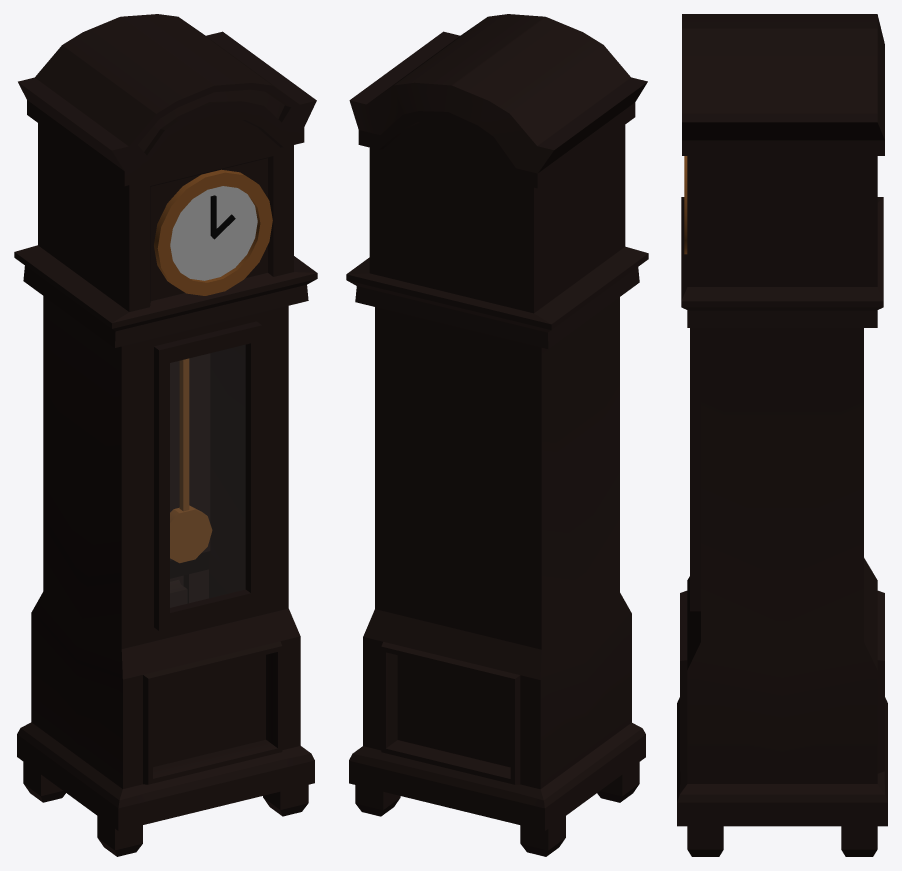
File: SM_Clock.FBX
3 renders of one model, left to right at view 1: azimuth 30°, elevation 25°; view 2: azimuth 150°, elevation 25°; view 3: azimuth 270°, elevation 25°, orthographic. The views are drawn at different scales.
Visible parts, largest first — view 1: Box012; view 2: Box012; view 3: Box012.
Part boxes in pixels (<box>): Box012: <box>14,14,317,856</box>; Box012: <box>346,14,648,856</box>; Box012: <box>677,14,887,856</box>.
Bounding box in the file's own units: 66.7 × 233 × 56.96.
